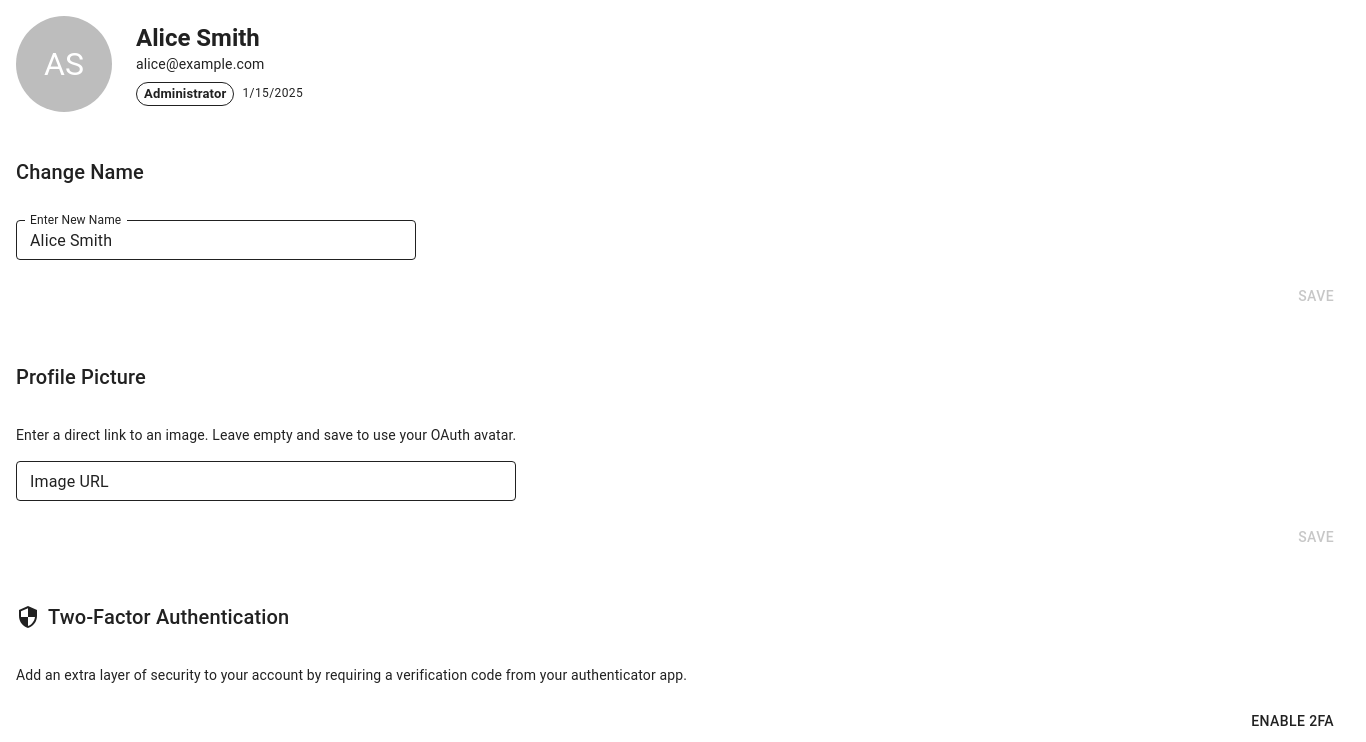
Test: ProfileEditor › shows generic error when name update throws non-Error
Replace the text in the field labelled "Enter New Name" with "New Name" at (216, 240), box [16,220,416,260]
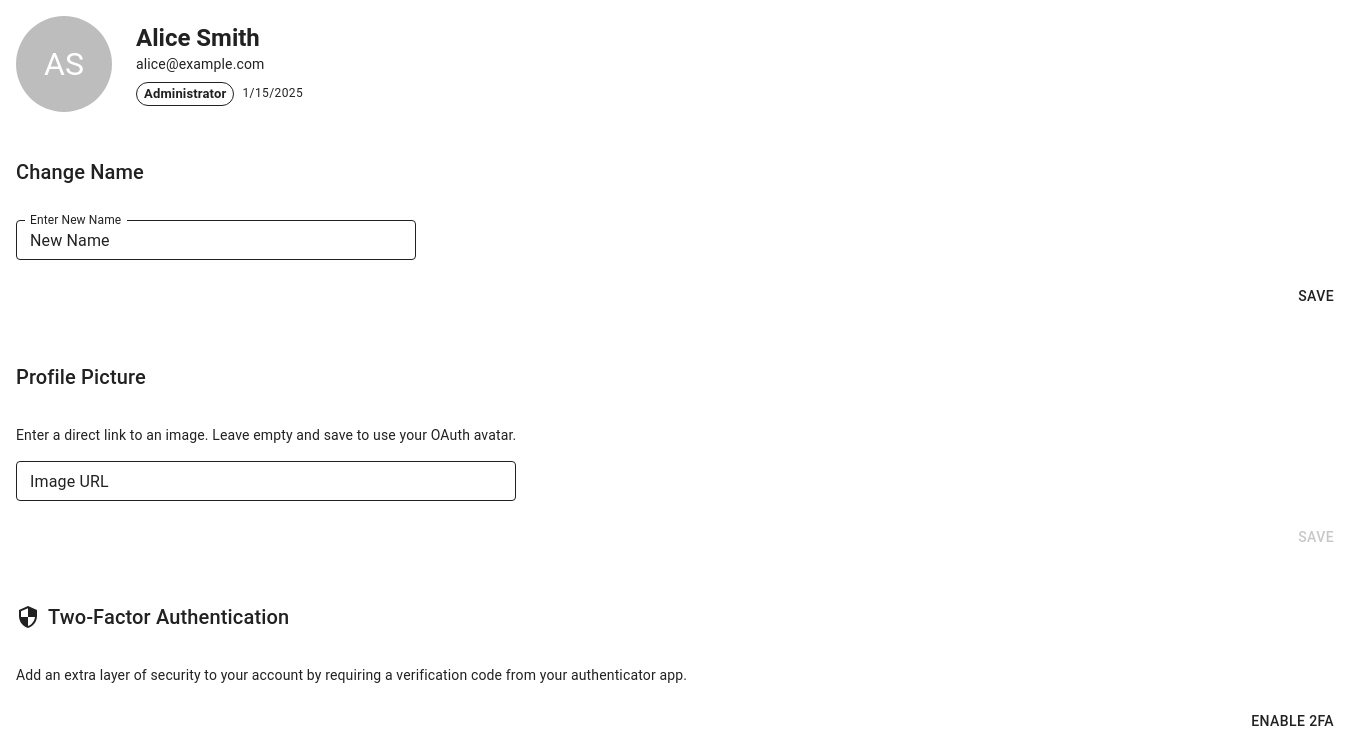
Click the 1st button "Save".
click(1316, 296)  # box [1282,276,1350,316]
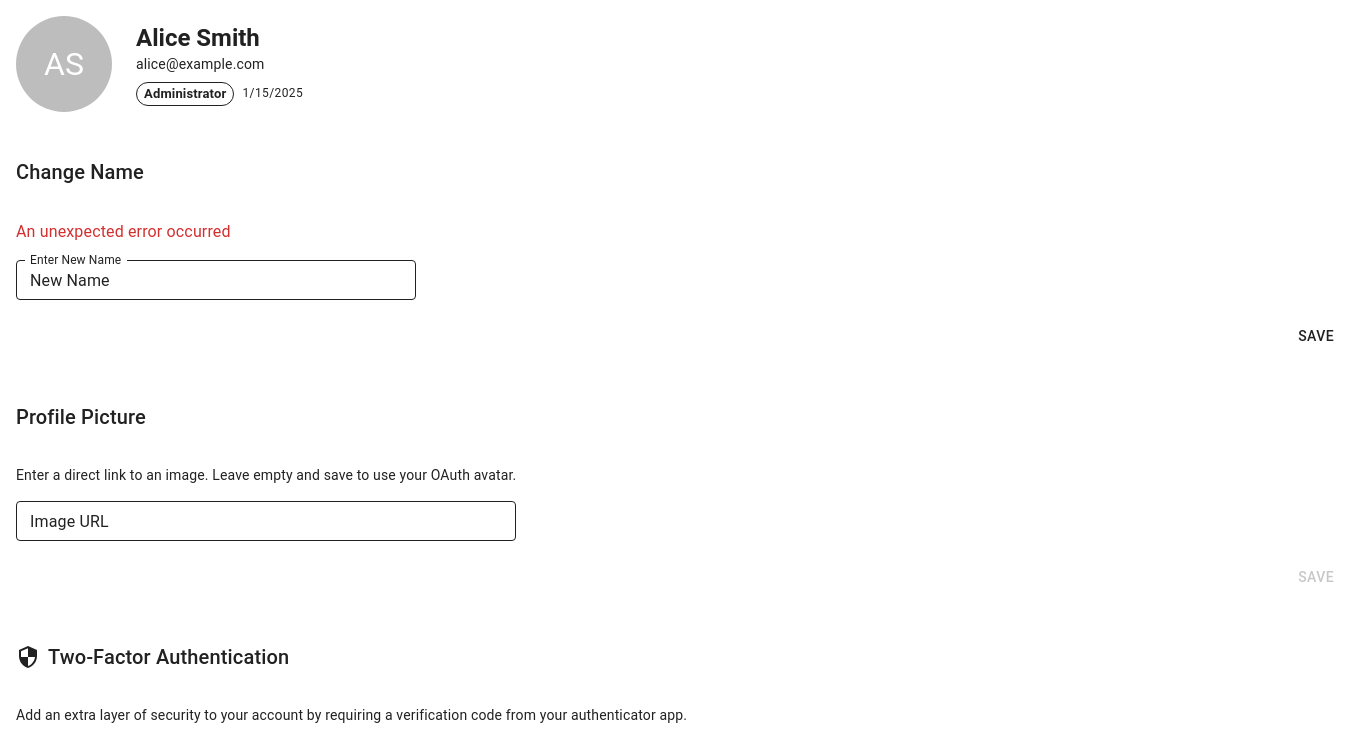
Result: the text "An unexpected error occurred" is shown at [16,222,231,241]
